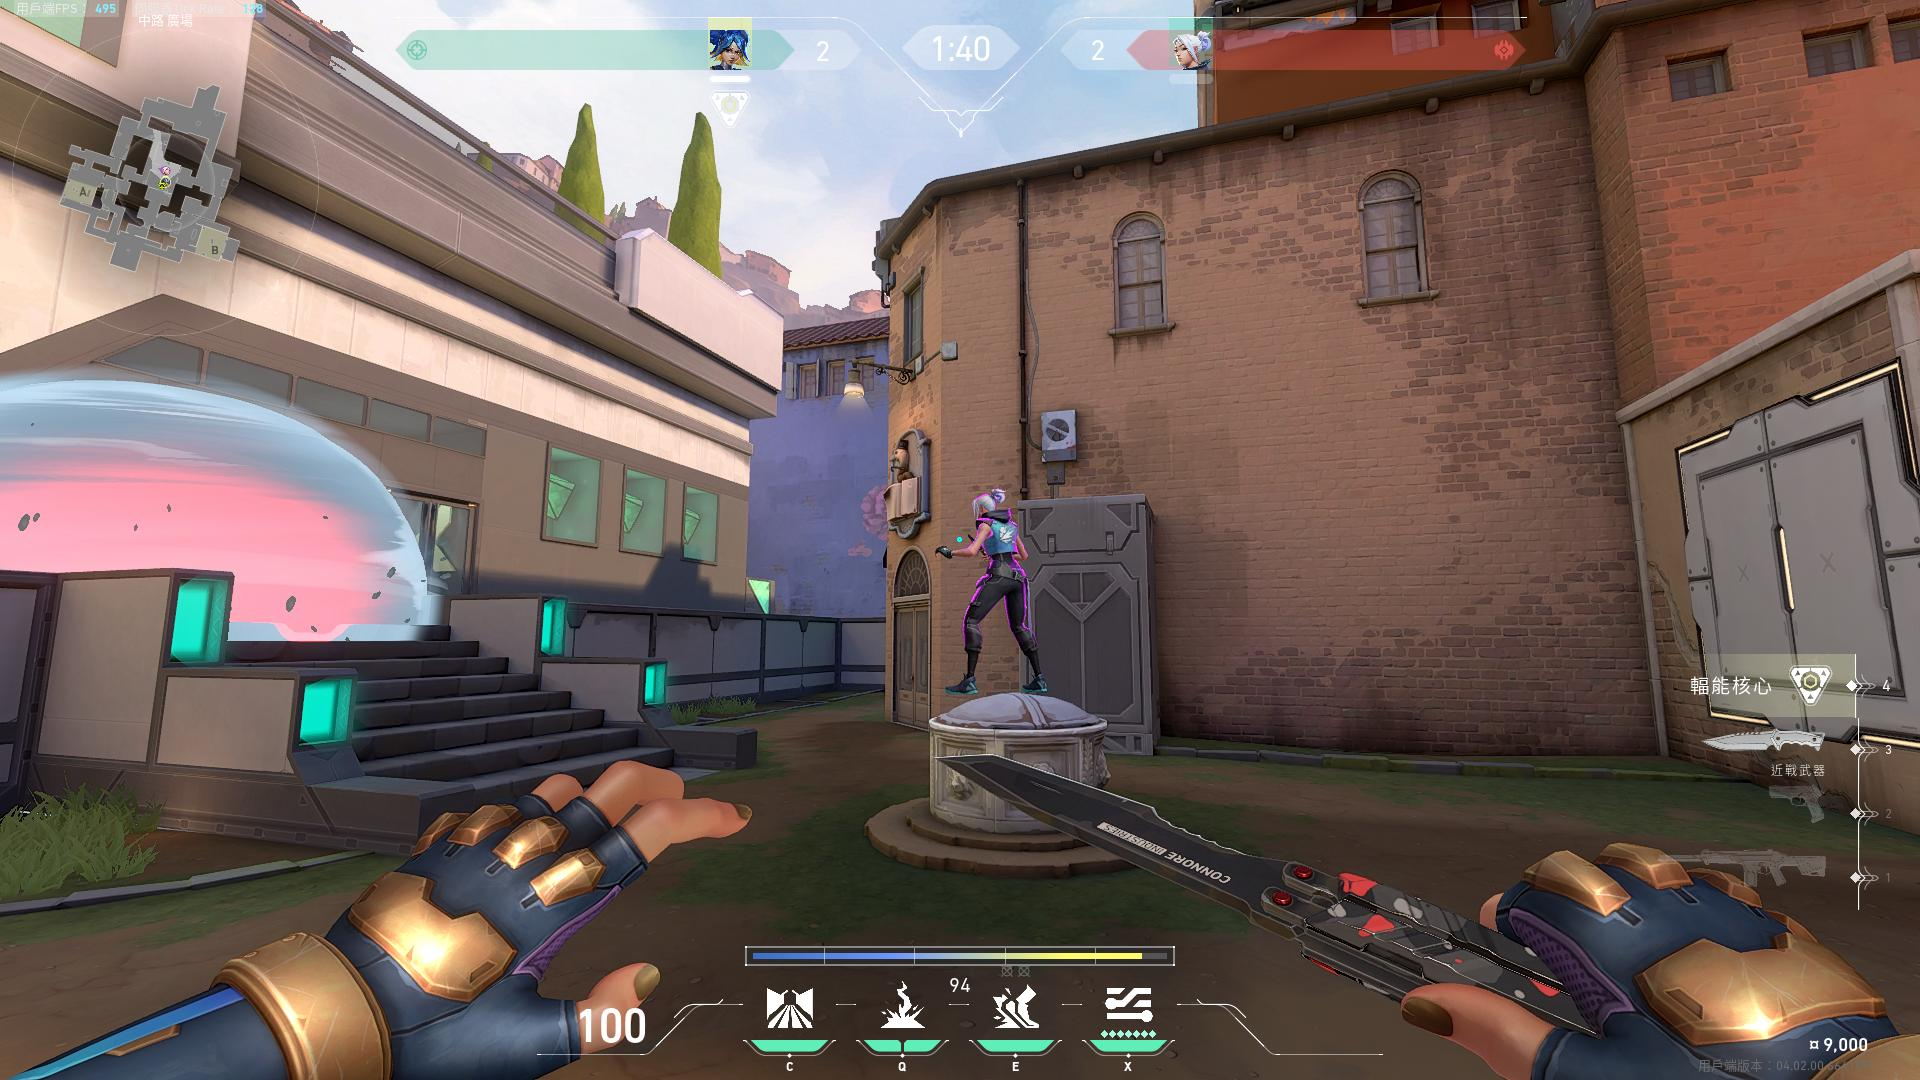enemyBody: (982, 520, 1017, 560)
enemyHead: (978, 498, 993, 512)
